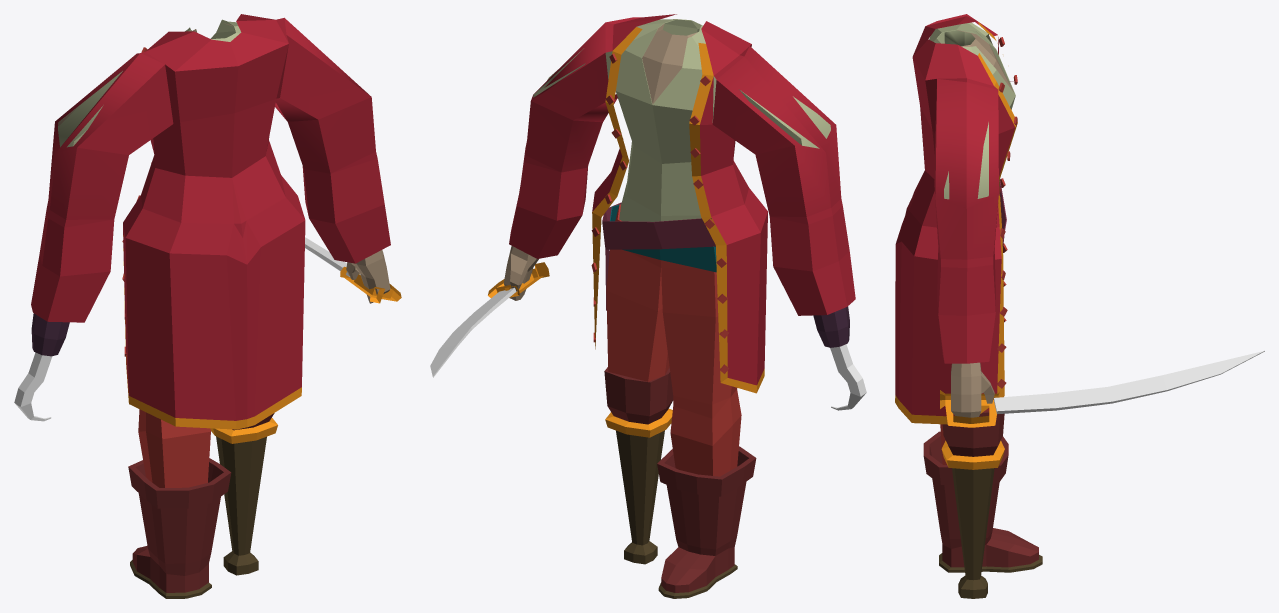
File: pirate-captain.glb
3 views of the same model, side by side, from view 1: azimuth 30°, elevation 25°; view 2: azimuth 150°, elevation 25°; view 3: azimuth 270°, elevation 25° (orthographic). The views are drawn at different scales.
Parts seen in each view (by area): view 1: Coat, Boot, Wooden_Leg, Pants, Hook_Hand, Chest, Hand, Cutlass; view 2: Coat, Pants, Chest, Boot, Wooden_Leg, Belts, Hook_Hand, Shirt, Cutlass, Hand, Coat_Buttons; view 3: Coat, Wooden_Leg, Boot, Cutlass, Chest, Hand, Coat_Buttons, Shirt.
Boxes of the visible parts, left/top/right/bottom form: Coat: left=31, top=14, right=390, bottom=429; Boot: left=128, top=458, right=231, bottom=598; Wooden_Leg: left=210, top=413, right=277, bottom=575; Pants: left=138, top=409, right=210, bottom=487; Hook_Hand: left=14, top=313, right=69, bottom=421; Chest: left=58, top=19, right=241, bottom=147; Hand: left=346, top=250, right=390, bottom=303; Cutlass: left=305, top=237, right=401, bottom=303; Coat: left=509, top=14, right=855, bottom=393; Pants: left=606, top=204, right=741, bottom=476; Chest: left=533, top=19, right=830, bottom=221; Boot: left=657, top=446, right=756, bottom=598; Wooden_Leg: left=604, top=367, right=673, bottom=564; Belts: left=602, top=202, right=716, bottom=310; Hook_Hand: left=813, top=306, right=866, bottom=410; Shirt: left=642, top=23, right=802, bottom=139; Cutlass: left=430, top=262, right=549, bottom=377; Hand: left=503, top=246, right=538, bottom=300; Coat_Buttons: left=591, top=53, right=728, bottom=373; Coat: left=895, top=14, right=1017, bottom=424; Wooden_Leg: left=941, top=411, right=1004, bottom=598; Boot: left=923, top=431, right=1042, bottom=572; Cutlass: left=940, top=351, right=1264, bottom=427; Chest: left=929, top=22, right=1015, bottom=199; Hand: left=951, top=362, right=994, bottom=417; Coat_Buttons: left=997, top=37, right=1017, bottom=388; Shirt: left=957, top=30, right=1013, bottom=92.
Size of the model in its own units: 1.05 by 1.47 by 0.909.
